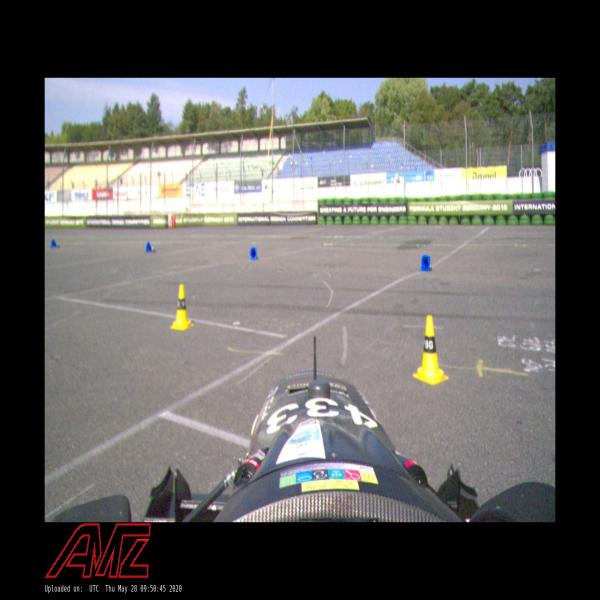blue_cone: (420, 255, 433, 272), (249, 246, 258, 261), (145, 242, 156, 253), (50, 238, 60, 250)
yellow_cone: (412, 313, 449, 386), (170, 284, 194, 331)
